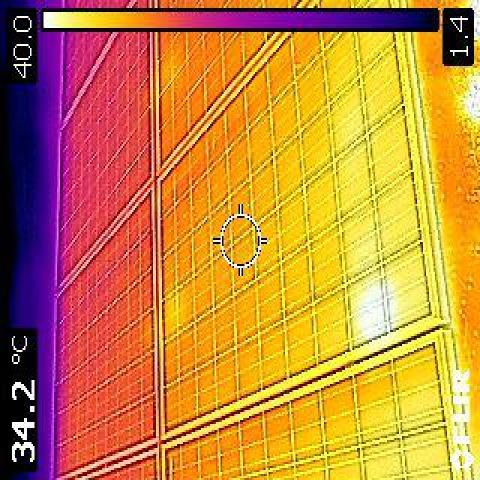fault: (351, 277, 385, 346)
